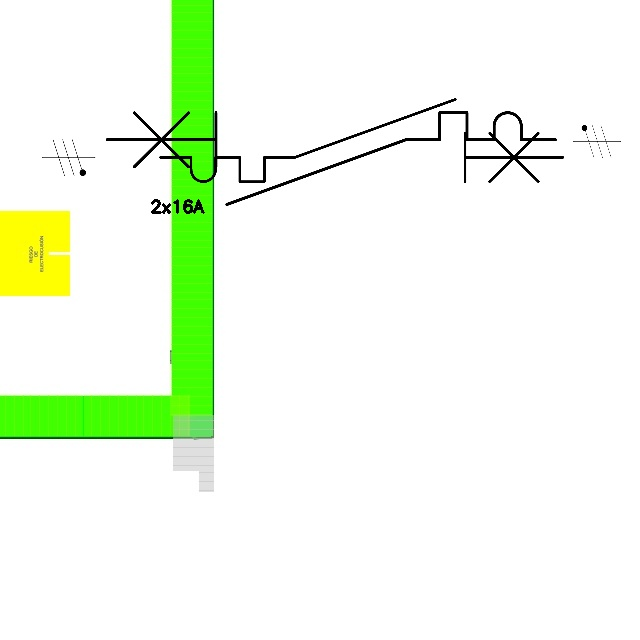interruptor_termomagnetico: (95, 101, 566, 216), (150, 89, 573, 192)
